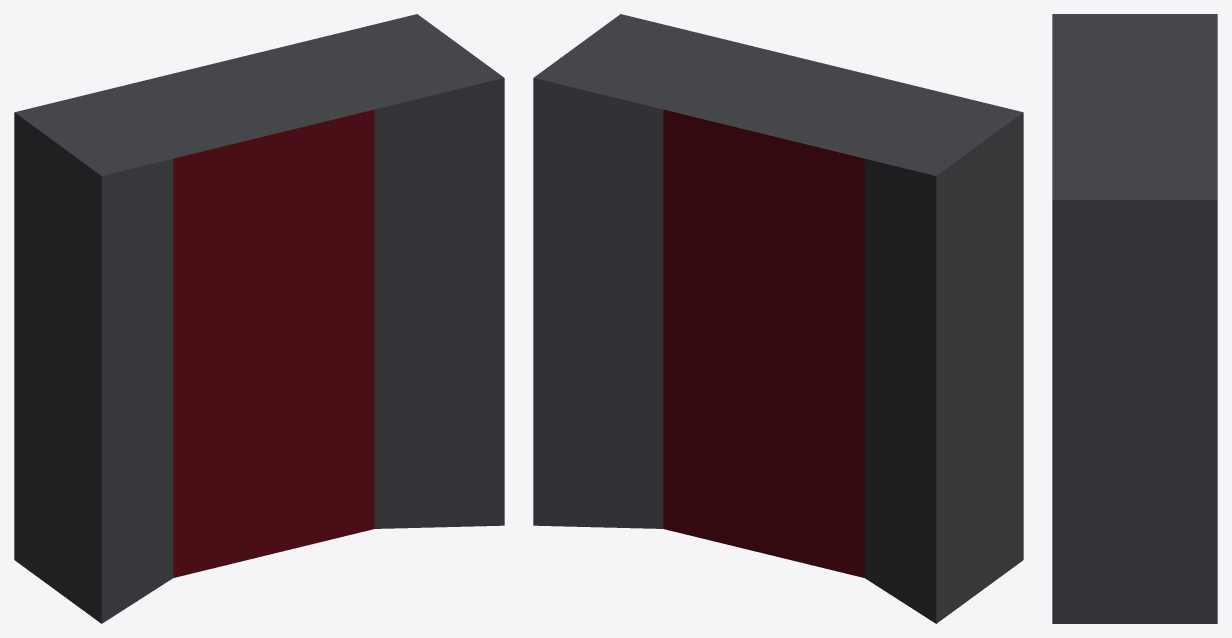
The model's file is Door.gltf.
The picture shows the model from 3 angles, left to right: view 1: azimuth 30°, elevation 25°; view 2: azimuth 150°, elevation 25°; view 3: azimuth 270°, elevation 25°; orthographic projection. The views are drawn at different scales.
Visible parts, largest first — view 1: cuboid; view 2: cuboid; view 3: cuboid.
Part boxes in pixels (x1,y1,x2,y2): cuboid: [14, 14, 504, 623]; cuboid: [533, 14, 1023, 623]; cuboid: [1052, 14, 1217, 623].
Size of the model in its own units: 1 by 1.06 by 0.375.
Materials: 1 (1 with a texture image).
